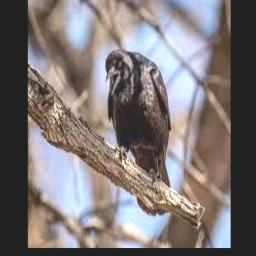Crow: (105, 49, 172, 216)
